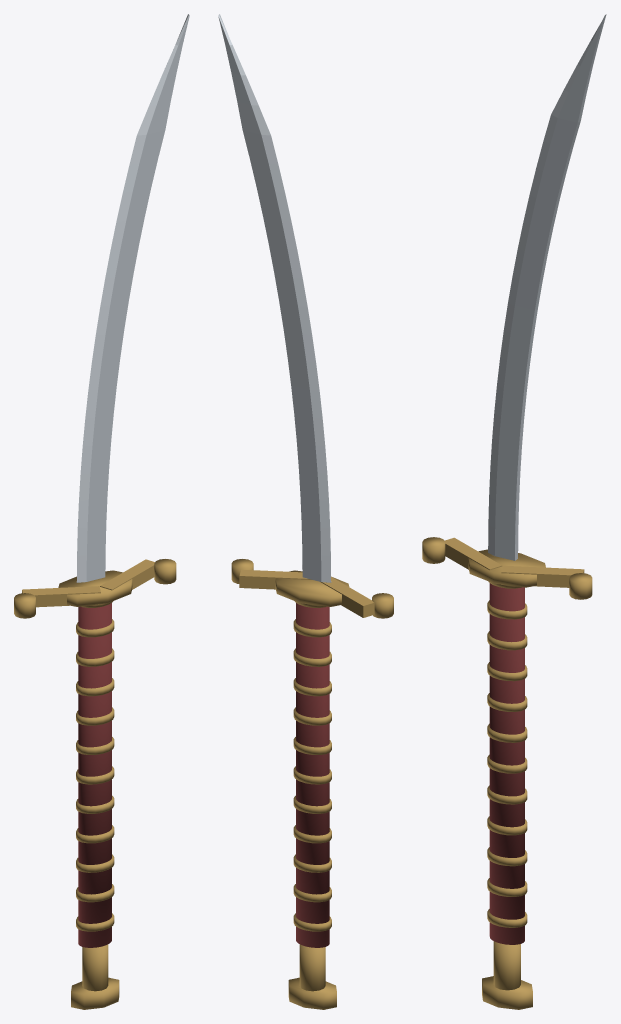
File: katana-capstone.fbx
3 renders of one model, left to right at view 1: azimuth 30°, elevation 25°; view 2: azimuth 150°, elevation 25°; view 3: azimuth 330°, elevation 25°, orthographic. The views are drawn at different scales.
Visible parts, largest first — view 1: KatanaCapstoneBlade, KatanaCapstoneHandle, KatanaCapstoneGuardCore, KatanaCapstonePommelNeck, KatanaCapstonePommelCrown, KatanaCapstoneGuardWing-1, KatanaCapstoneGuardWing1, KatanaCapstoneGuardJewel1, KatanaCapstoneGuardJewel-1; view 2: KatanaCapstoneBlade, KatanaCapstoneHandle, KatanaCapstoneGuardCore, KatanaCapstonePommelNeck, KatanaCapstonePommelCrown, KatanaCapstoneGuardWing1, KatanaCapstoneGuardWing-1, KatanaCapstoneGuardJewel-1; view 3: KatanaCapstoneBlade, KatanaCapstoneHandle, KatanaCapstoneGuardCore, KatanaCapstonePommelNeck, KatanaCapstonePommelCrown, KatanaCapstoneGuardWing1, KatanaCapstoneGuardWing-1, KatanaCapstoneGuardJewel1, KatanaCapstoneGuardJewel-1.
Part boxes in pixels (x1=…): KatanaCapstoneBlade: x1=76, y1=14, x2=189, y2=582; KatanaCapstoneHandle: x1=78, y1=603, x2=111, y2=947; KatanaCapstoneGuardCore: x1=58, y1=570, x2=132, y2=606; KatanaCapstonePommelNeck: x1=82, y1=944, x2=108, y2=991; KatanaCapstonePommelCrown: x1=71, y1=977, x2=119, y2=1009; KatanaCapstoneGuardWing-1: x1=22, y1=586, x2=100, y2=607; KatanaCapstoneGuardWing1: x1=100, y1=559, x2=154, y2=590; KatanaCapstoneGuardJewel1: x1=154, y1=559, x2=176, y2=584; KatanaCapstoneGuardJewel-1: x1=14, y1=593, x2=35, y2=618; KatanaCapstoneBlade: x1=218, y1=14, x2=331, y2=582; KatanaCapstoneHandle: x1=296, y1=603, x2=329, y2=947; KatanaCapstoneGuardCore: x1=275, y1=570, x2=349, y2=606; KatanaCapstonePommelNeck: x1=299, y1=944, x2=325, y2=991; KatanaCapstonePommelCrown: x1=288, y1=977, x2=336, y2=1009; KatanaCapstoneGuardWing1: x1=239, y1=570, x2=311, y2=589; KatanaCapstoneGuardWing-1: x1=321, y1=577, x2=374, y2=617; KatanaCapstoneGuardJewel-1: x1=372, y1=593, x2=393, y2=618; KatanaCapstoneBlade: x1=488, y1=14, x2=606, y2=560; KatanaCapstoneHandle: x1=489, y1=583, x2=524, y2=944; KatanaCapstoneGuardCore: x1=468, y1=549, x2=545, y2=587; KatanaCapstonePommelNeck: x1=493, y1=941, x2=520, y2=990; KatanaCapstonePommelCrown: x1=482, y1=976, x2=532, y2=1009; KatanaCapstoneGuardWing1: x1=501, y1=565, x2=584, y2=587; KatanaCapstoneGuardWing-1: x1=445, y1=537, x2=502, y2=570; KatanaCapstoneGuardJewel1: x1=569, y1=573, x2=592, y2=599; KatanaCapstoneGuardJewel-1: x1=422, y1=537, x2=445, y2=563.
Bounding box in the file's own units: 0.2107 × 1.12 × 0.0536.
